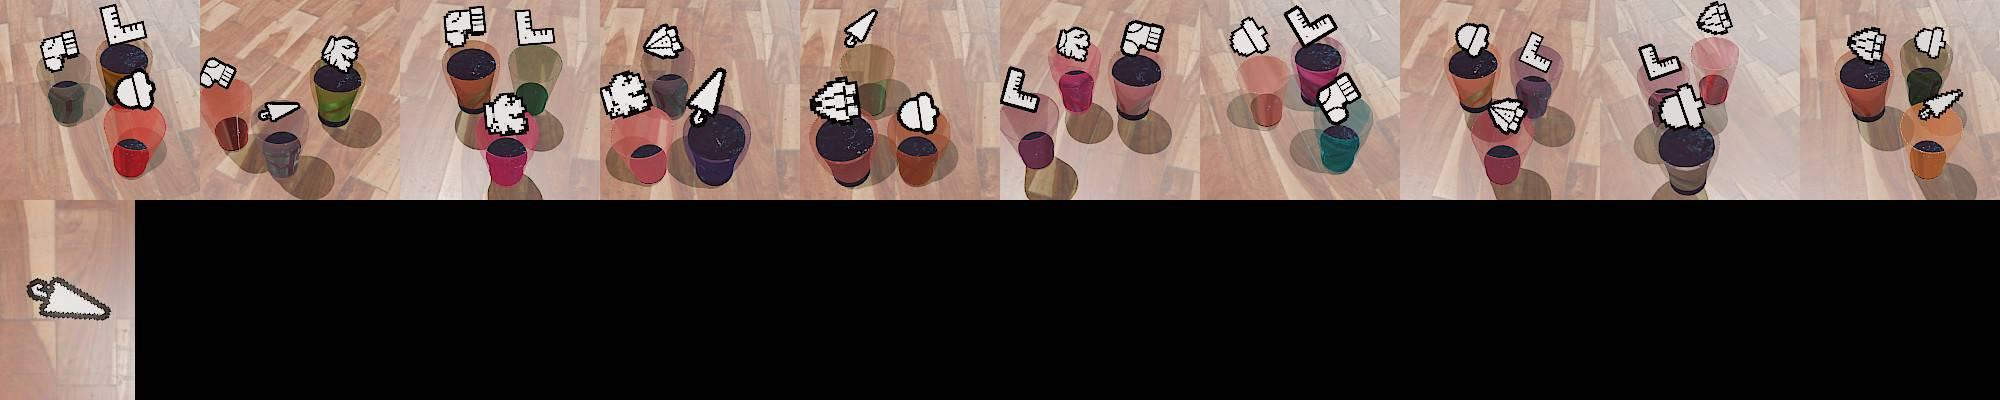icon: (24, 275, 114, 320), (598, 70, 652, 118), (685, 66, 727, 127), (810, 75, 864, 122), (1316, 70, 1362, 124), (1657, 82, 1707, 129), (1283, 5, 1337, 48), (482, 92, 531, 135), (98, 3, 145, 46), (999, 64, 1040, 113), (1639, 41, 1684, 83), (443, 6, 487, 48), (897, 92, 940, 134), (1517, 31, 1556, 75), (114, 69, 156, 110), (40, 31, 80, 73), (514, 8, 555, 48), (1120, 19, 1163, 57), (1230, 17, 1269, 57), (643, 22, 685, 60), (320, 34, 360, 73), (1916, 88, 1963, 120), (1487, 97, 1527, 134), (1055, 24, 1092, 61), (1848, 27, 1886, 62), (1696, 0, 1733, 36), (1455, 22, 1492, 57), (843, 9, 878, 47), (199, 57, 237, 90), (1915, 25, 1949, 60), (258, 99, 302, 122)
